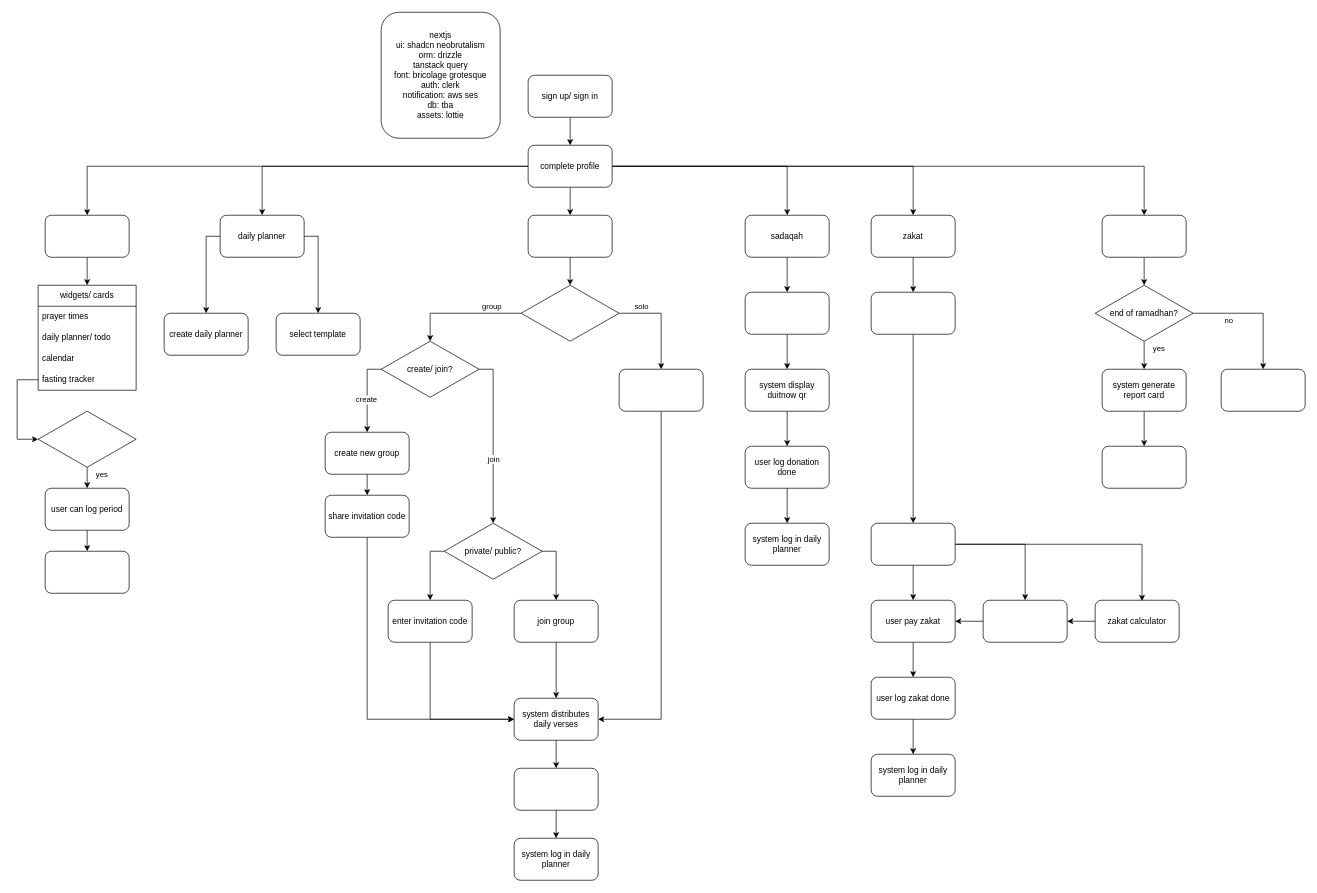
Image size: 1317x893. Some labels were removed from this diagram. The shapes that lost their labels are listed below. From the top down, each one's centre as x and y in pixels, then its label:
At point 86,236: "dashboard/ home".
At point 569,236: "tadarus".
At point 1143,236: "report card".
At point 569,313: "group/ solo?".
At point 786,313: "system fetch sedekahje rawak api".
At point 912,313: "user select state".
At point 660,390: "sign up".
At point 1262,390: "system says lepak lu".
At point 86,439: "woman?".
At point 1143,467: "user reflect on their 2025 ramadhan".
At point 912,544: "system display link to state zakat institution".
At point 86,572: "system display fasting replacement days".
At point 1024,621: "user set reminder".
At point 555,789: "user log daily progress".
